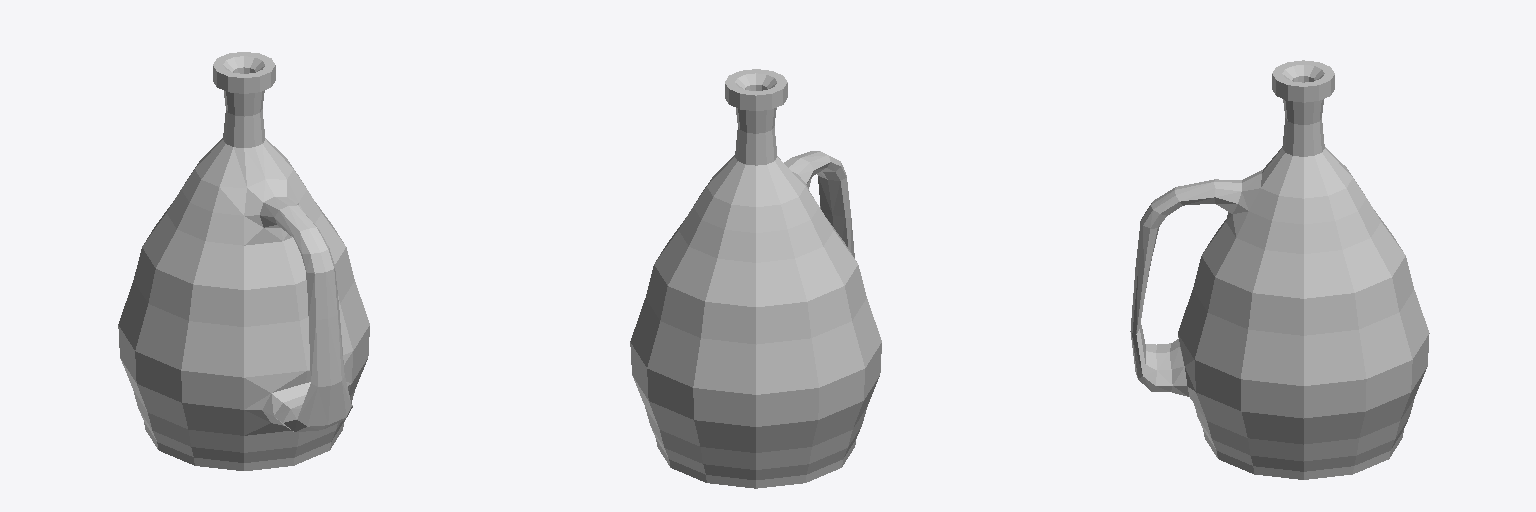
Rendered from Jar.obj.
3 renders of one model, left to right at view 1: azimuth 30°, elevation 25°; view 2: azimuth 150°, elevation 25°; view 3: azimuth 270°, elevation 25°, orthographic.
Parts seen in each view (by area): view 1: Jar; view 2: Jar; view 3: Jar.
Boxes of the visible parts, x1=… form: Jar: x1=118, y1=52, x2=369, y2=470; Jar: x1=630, y1=69, x2=881, y2=488; Jar: x1=1130, y1=60, x2=1429, y2=479.
Bounding box in the file's own units: 2.55 × 4.07 × 3.03.